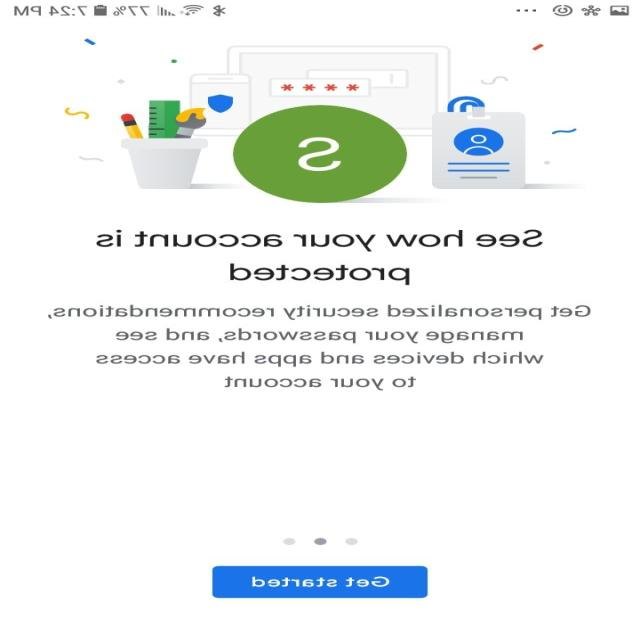Image: (65, 38, 578, 203)
Text: (48, 304, 591, 391), (96, 228, 544, 285)
TextButton: (212, 566, 428, 598)
